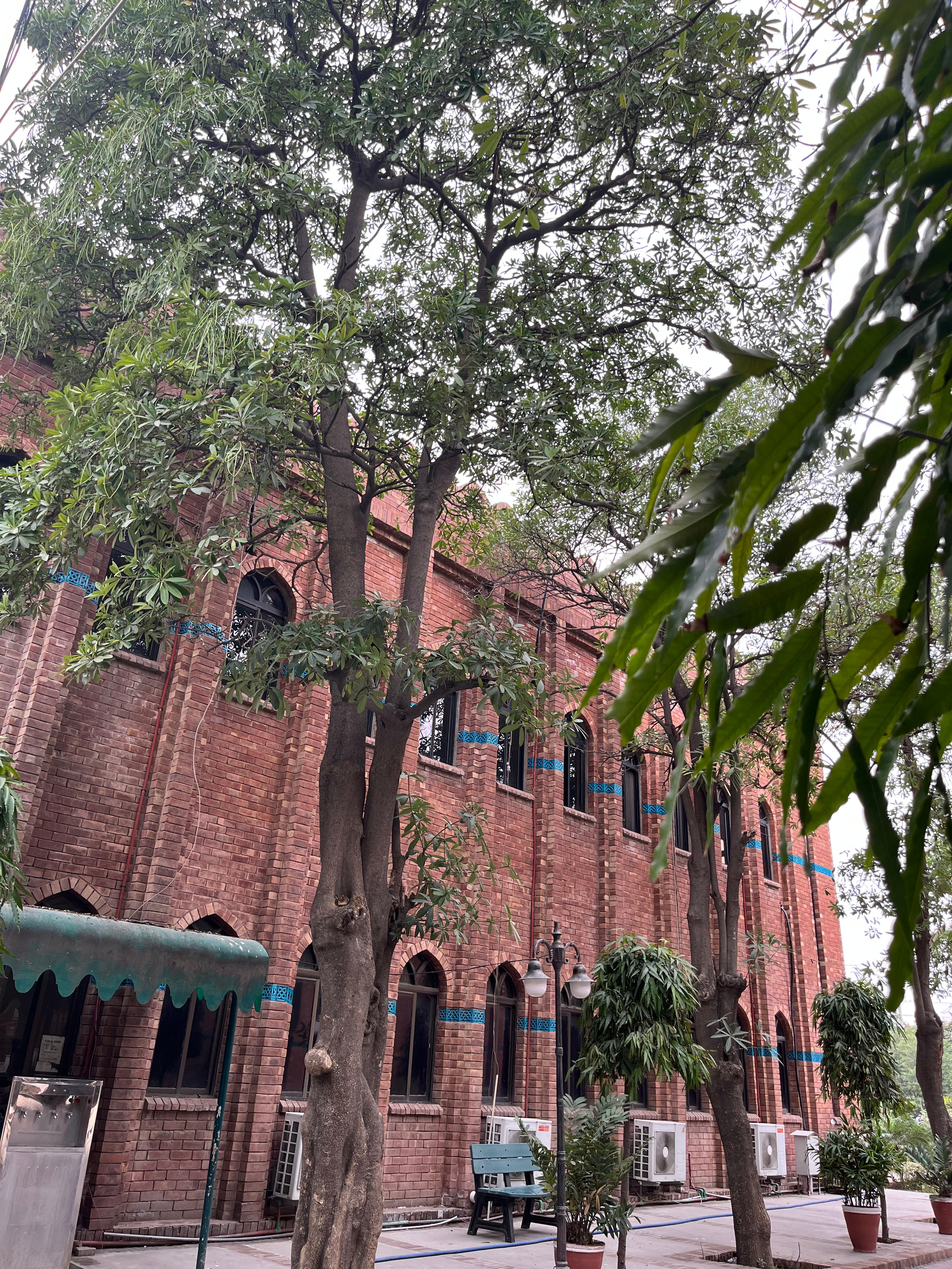Block B: (3, 278, 890, 1235)
